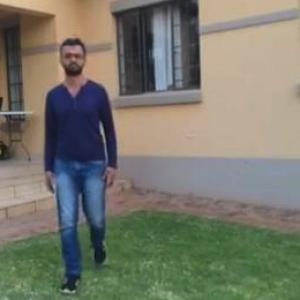follow: (41, 28, 122, 296)
